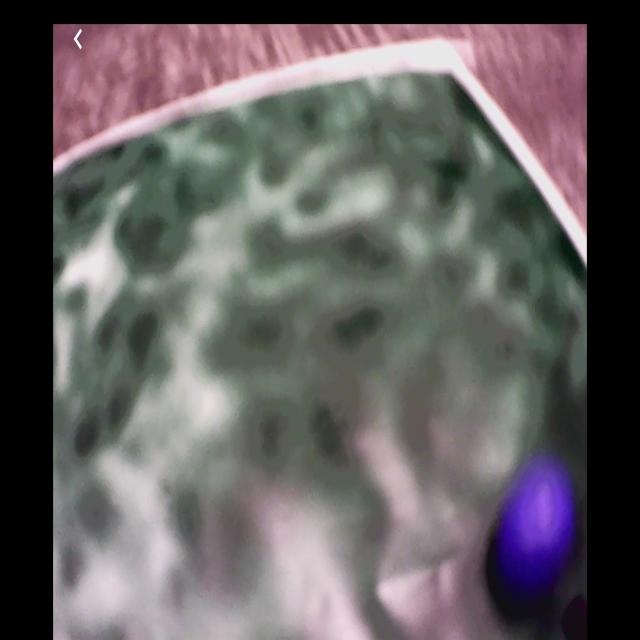ball: (498, 466, 575, 583)
